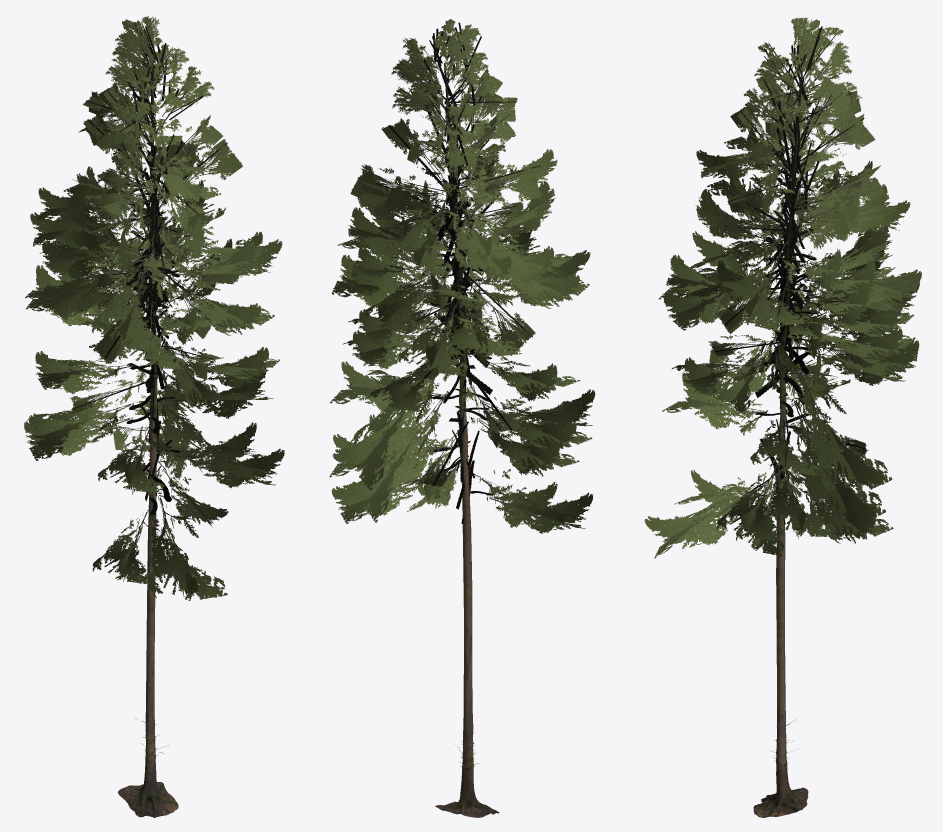
Rendered from tree_conifer_far.glb.
3 renders of one model, left to right at view 1: azimuth 30°, elevation 25°; view 2: azimuth 150°, elevation 25°; view 3: azimuth 270°, elevation 25°, orthographic. The views are drawn at different scales.
Parts seen in each view (by area): view 1: tree_conifer_far; view 2: tree_conifer_far; view 3: tree_conifer_far.
Boxes of the visible parts, bbox=[...] form: tree_conifer_far: bbox=[24, 16, 284, 817]; tree_conifer_far: bbox=[329, 19, 595, 817]; tree_conifer_far: bbox=[644, 17, 921, 817].
Bounding box in the file's own units: 6.09 × 18.75 × 6.3.
2 materials, 2 textured.
